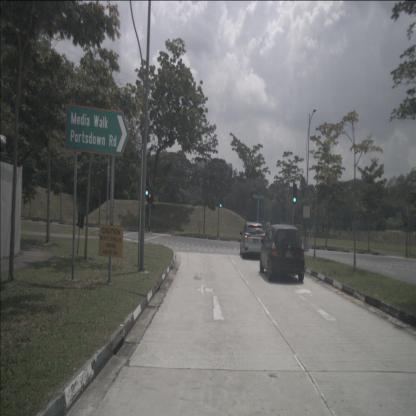vehicle-car: (259, 224, 305, 282), (240, 222, 266, 259)
